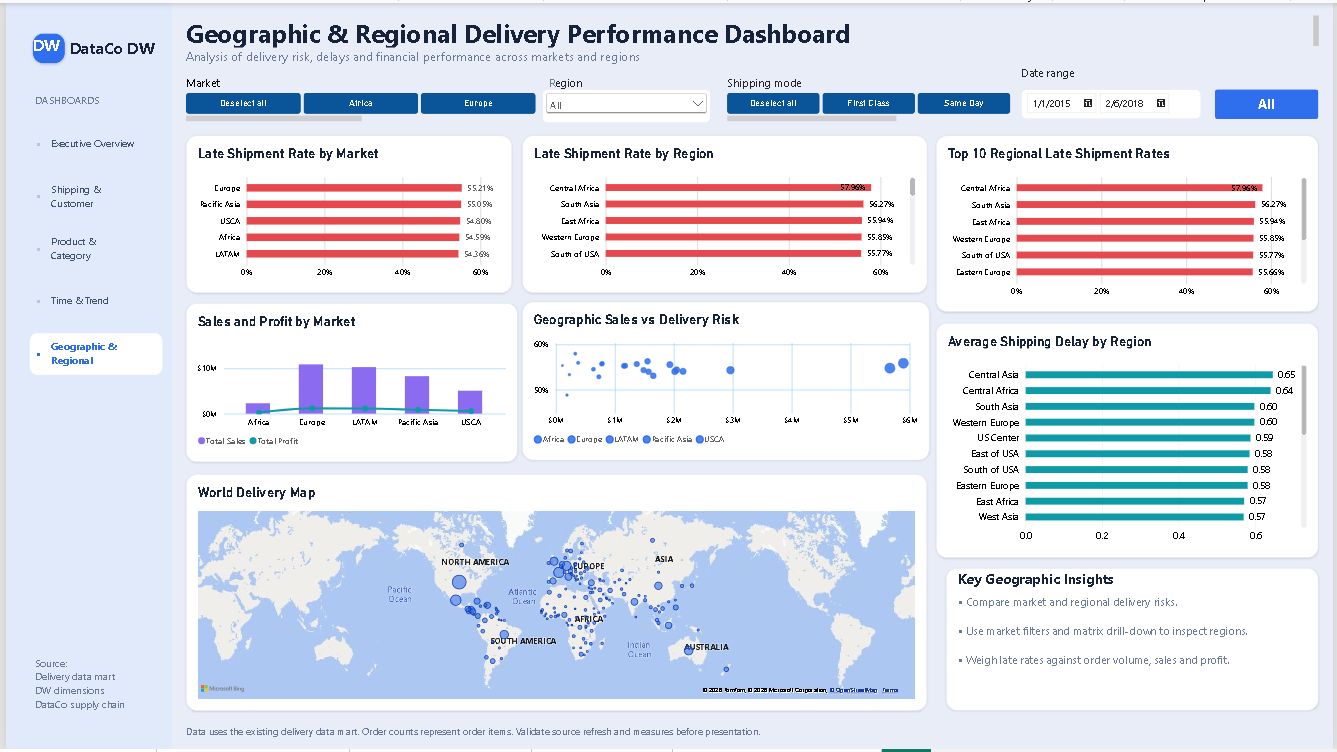

This screenshot's page, from the dashboard's own definition file:
{"tool":"powerbi","page":{"name":"Geographic & Regional","canvas":[1920,1080],"ordinal":4},"visuals":[{"type":"textbox","box":[0,0,240,1080],"z":0},{"type":"textbox","box":[38,44,48,45],"z":1000},{"type":"textbox","box":[92,48,136,42],"z":2000},{"type":"textbox","box":[42,130,180,30],"z":3000},{"type":"textbox","box":[42,944,174,95],"z":4000},{"type":"textbox","box":[260,18,1640,46],"z":5000},{"type":"textbox","box":[260,65,1640,25],"z":6000},{"type":"textbox","box":[260,1045,1640,24],"z":7000},{"type":"barChart","title":"Late Shipment Rate by Market","fields":{"Category":["DW DimLocation.Market"],"Y":["DM FactDeliveryPerformance.Late Shipment Rate"]},"box":[260.6,191.8,472.3,228],"z":13000},{"type":"barChart","title":"Late Shipment Rate by Region","fields":{"Category":["DW DimLocation.Order_Region"],"Y":["DM FactDeliveryPerformance.Late Shipment Rate"]},"box":[747.4,191.8,586.3,228],"z":14000},{"type":"barChart","title":"Top 10 Regional Late Shipment Rates","fields":{"Category":["DW DimLocation.Order_Region"],"Y":["DM FactDeliveryPerformance.Late Shipment Rate"]},"box":[1346.4,191.8,553.8,255.2],"z":15000},{"type":"lineClusteredColumnComboChart","title":"Sales and Profit by Market","fields":{"Category":["DW DimLocation.Market"],"Y":["DM FactDeliveryPerformance.Total Sales"],"Y2":["DM FactDeliveryPerformance.Total Profit"]},"box":[260.6,434.3,480,230],"z":16000},{"type":"scatterChart","title":"Geographic Sales vs Delivery Risk","fields":{"Category":["DW DimLocation.Order_Region"],"Series":["DW DimLocation.Market"],"Size":["DM FactDeliveryPerformance.Total Order Items"],"X":["DM FactDeliveryPerformance.Total Sales"],"Y":["DM FactDeliveryPerformance.Late Shipment Rate"]},"box":[747.4,432.5,589.9,229.8],"z":17000},{"type":"barChart","title":"Average Shipping Delay by Region","fields":{"Category":["DW DimLocation.Order_Region"],"Y":["DM FactDeliveryPerformance.Average Shipping Delay"]},"box":[1346.4,463.3,553.8,340.2],"z":18000},{"type":"map","title":"World Delivery Map","fields":{"Category":["DW DimLocation.Order_Country"],"Size":["DM FactDeliveryPerformance.Total Order Items"]},"box":[260.6,682.2,1073.1,342],"z":19000},{"type":"textbox","box":[1360.9,818,539.3,206.3],"z":20000},{"type":"textbox","box":[1379,854.2,503.1,157.4],"z":21000},{"type":"textbox","box":[34,478,192,61],"z":22000},{"type":"textbox","box":[65,191,165,48],"z":23000},{"type":"textbox","box":[65,258,165,48],"z":24000},{"type":"textbox","box":[65,334,165,48],"z":25000},{"type":"textbox","box":[65,419,165,48],"z":26000},{"type":"textbox","box":[65,486,165,48],"z":27000},{"type":"textbox","box":[44,192,22,28],"z":28000},{"type":"textbox","box":[44,496,22,28],"z":29000},{"type":"textbox","box":[44,268,22,28],"z":30000},{"type":"textbox","box":[44,344,22,28],"z":31000},{"type":"textbox","box":[44,420,22,28],"z":32000},{"type":"actionButton","box":[34,174,192,61],"z":33000},{"type":"actionButton","box":[34,250,192,61],"z":34000},{"type":"actionButton","box":[34,326,192,61],"z":35000},{"type":"actionButton","box":[34,402,192,61],"z":36000},{"type":"actionButton","box":[34,478,192,61],"z":37000},{"type":"textbox","box":[260.6,103.2,508.5,27.1],"z":38000},{"type":"textbox","box":[785.4,103.2,244.3,27.1],"z":39000},{"type":"textbox","box":[1469.4,88.7,260.6,29],"z":40000},{"type":"textbox","box":[1044.2,103.2,410.8,27.1],"z":41000},{"type":"advancedSlicerVisual","fields":{"Values":["DW DimShipping.Shipping_Mode"]},"box":[1044.2,130.3,410.8,43.4],"z":42000},{"type":"slicer","fields":{"Values":["DW DimDate.FullDate"]},"box":[1469.4,124.9,260.6,43.4],"z":43000},{"type":"advancedSlicerVisual","fields":{"Values":["DW DimLocation.Market"]},"box":[260.6,130.3,508.5,43.4],"z":44000},{"type":"slicer","fields":{"Values":["DW DimLocation.Order_Region"]},"box":[776.3,124.9,244.3,48.9],"z":45000},{"type":"actionButton","box":[1749.9,124.9,150.2,43.4],"z":46000}]}

Visuals, with their boxes on the page's 1920x1080 design canvas (x1, y1, x2, y2). These are canvas units, not pixel positions in the 1337x752 screenshot, which may show the page scaled, cropped or inside an application window:
textbox: Rect(0, 0, 240, 1080)
textbox: Rect(38, 44, 86, 89)
textbox: Rect(92, 48, 228, 90)
textbox: Rect(42, 130, 222, 160)
textbox: Rect(42, 944, 216, 1039)
textbox: Rect(260, 18, 1900, 64)
textbox: Rect(260, 65, 1900, 90)
textbox: Rect(260, 1045, 1900, 1069)
"Late Shipment Rate by Market" barChart: Rect(261, 192, 733, 420)
"Late Shipment Rate by Region" barChart: Rect(747, 192, 1334, 420)
"Top 10 Regional Late Shipment Rates" barChart: Rect(1346, 192, 1900, 447)
"Sales and Profit by Market" lineClusteredColumnComboChart: Rect(261, 434, 741, 664)
"Geographic Sales vs Delivery Risk" scatterChart: Rect(747, 432, 1337, 662)
"Average Shipping Delay by Region" barChart: Rect(1346, 463, 1900, 804)
"World Delivery Map" map: Rect(261, 682, 1334, 1024)
textbox: Rect(1361, 818, 1900, 1024)
textbox: Rect(1379, 854, 1882, 1012)
textbox: Rect(34, 478, 226, 539)
textbox: Rect(65, 191, 230, 239)
textbox: Rect(65, 258, 230, 306)
textbox: Rect(65, 334, 230, 382)
textbox: Rect(65, 419, 230, 467)
textbox: Rect(65, 486, 230, 534)
textbox: Rect(44, 192, 66, 220)
textbox: Rect(44, 496, 66, 524)
textbox: Rect(44, 268, 66, 296)
textbox: Rect(44, 344, 66, 372)
textbox: Rect(44, 420, 66, 448)
actionButton: Rect(34, 174, 226, 235)
actionButton: Rect(34, 250, 226, 311)
actionButton: Rect(34, 326, 226, 387)
actionButton: Rect(34, 402, 226, 463)
actionButton: Rect(34, 478, 226, 539)
textbox: Rect(261, 103, 769, 130)
textbox: Rect(785, 103, 1030, 130)
textbox: Rect(1469, 89, 1730, 118)
textbox: Rect(1044, 103, 1455, 130)
advancedSlicerVisual - DW DimShipping.Shipping_Mode: Rect(1044, 130, 1455, 174)
slicer - DW DimDate.FullDate: Rect(1469, 125, 1730, 168)
advancedSlicerVisual - DW DimLocation.Market: Rect(261, 130, 769, 174)
slicer - DW DimLocation.Order_Region: Rect(776, 125, 1021, 174)
actionButton: Rect(1750, 125, 1900, 168)
